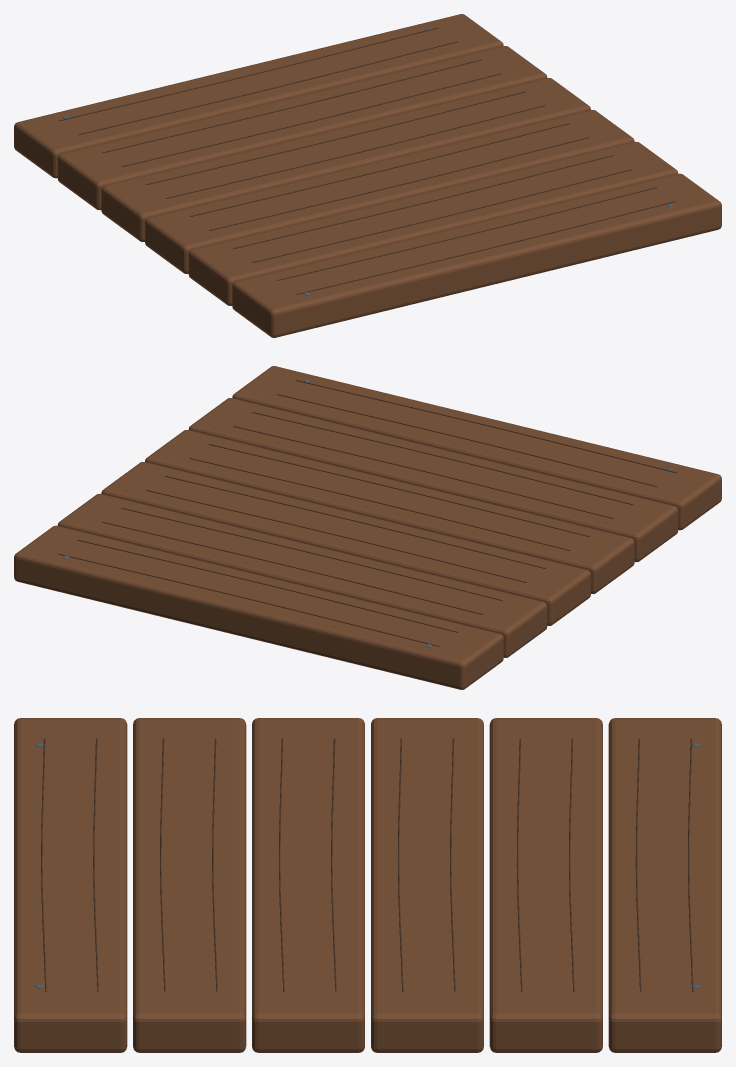
File: deck_tile.glb
3 renders of one model, top to bottom at view 1: azimuth 30°, elevation 25°; view 2: azimuth 150°, elevation 25°; view 3: azimuth 270°, elevation 25°, orthographic. The views are drawn at different scales.
Parts seen in each view (by area): view 1: Bevelled_timber.005, Bevelled_timber.001, Bevelled_timber.003, Bevelled_timber.004, Bevelled_timber.002, Bevelled_timber, Fine_wood_grain.002, Fine_wood_grain, Fine_wood_grain.006, Fine_wood_grain.010, Fine_wood_grain.001, Fine_wood_grain.003 (+6 smaller); view 2: Bevelled_timber, Bevelled_timber.002, Bevelled_timber.004, Bevelled_timber.003, Bevelled_timber.005, Bevelled_timber.001, Fine_wood_grain.001, Fine_wood_grain.011, Fine_wood_grain.004, Fine_wood_grain.005, Fine_wood_grain.010, Fine_wood_grain.009 (+6 smaller); view 3: Bevelled_timber.004, Bevelled_timber.001, Bevelled_timber.005, Bevelled_timber, Bevelled_timber.003, Bevelled_timber.002, Fine_wood_grain.001.
Part boxes in pixels (left/top/right/bottom): Bevelled_timber.005: left=232, top=173, right=721, bottom=337; Bevelled_timber.001: left=57, top=46, right=547, bottom=210; Bevelled_timber.003: left=145, top=110, right=634, bottom=273; Bevelled_timber.004: left=188, top=141, right=678, bottom=305; Bevelled_timber.002: left=101, top=78, right=590, bottom=241; Bevelled_timber: left=14, top=14, right=503, bottom=178; Fine_wood_grain.002: left=102, top=59, right=482, bottom=152; Fine_wood_grain: left=59, top=27, right=438, bottom=121; Fine_wood_grain.006: left=190, top=123, right=569, bottom=216; Fine_wood_grain.010: left=277, top=187, right=656, bottom=280; Fine_wood_grain.001: left=78, top=41, right=457, bottom=135; Fine_wood_grain.003: left=122, top=73, right=501, bottom=166; Bevelled_timber: left=14, top=525, right=503, bottom=689; Bevelled_timber.002: left=101, top=462, right=590, bottom=625; Bevelled_timber.004: left=188, top=398, right=678, bottom=562; Bevelled_timber.003: left=145, top=430, right=634, bottom=593; Bevelled_timber.005: left=232, top=366, right=721, bottom=530; Bevelled_timber.001: left=57, top=493, right=547, bottom=657; Fine_wood_grain.001: left=77, top=539, right=458, bottom=632; Fine_wood_grain.011: left=296, top=380, right=676, bottom=473; Fine_wood_grain.004: left=146, top=490, right=526, bottom=582; Fine_wood_grain.005: left=165, top=476, right=545, bottom=568; Fine_wood_grain.010: left=277, top=394, right=657, bottom=487; Fine_wood_grain.009: left=252, top=412, right=633, bottom=504; Bevelled_timber.004: left=133, top=718, right=246, bottom=1052; Bevelled_timber.001: left=489, top=718, right=602, bottom=1052; Bevelled_timber.005: left=14, top=718, right=127, bottom=1052; Bevelled_timber: left=608, top=718, right=721, bottom=1052; Bevelled_timber.003: left=252, top=718, right=364, bottom=1052; Bevelled_timber.002: left=371, top=718, right=483, bottom=1052; Fine_wood_grain.001: left=635, top=738, right=641, bottom=992.
Bounding box in the file's own units: 0.996 × 0.062 × 0.992.
